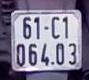0: (15, 40, 26, 70), (55, 40, 66, 67)
1: (33, 16, 41, 41), (63, 16, 70, 39)
3: (67, 39, 80, 67)
4: (40, 40, 53, 68)
6: (21, 15, 34, 40), (27, 42, 40, 67)
C: (49, 14, 61, 39)
